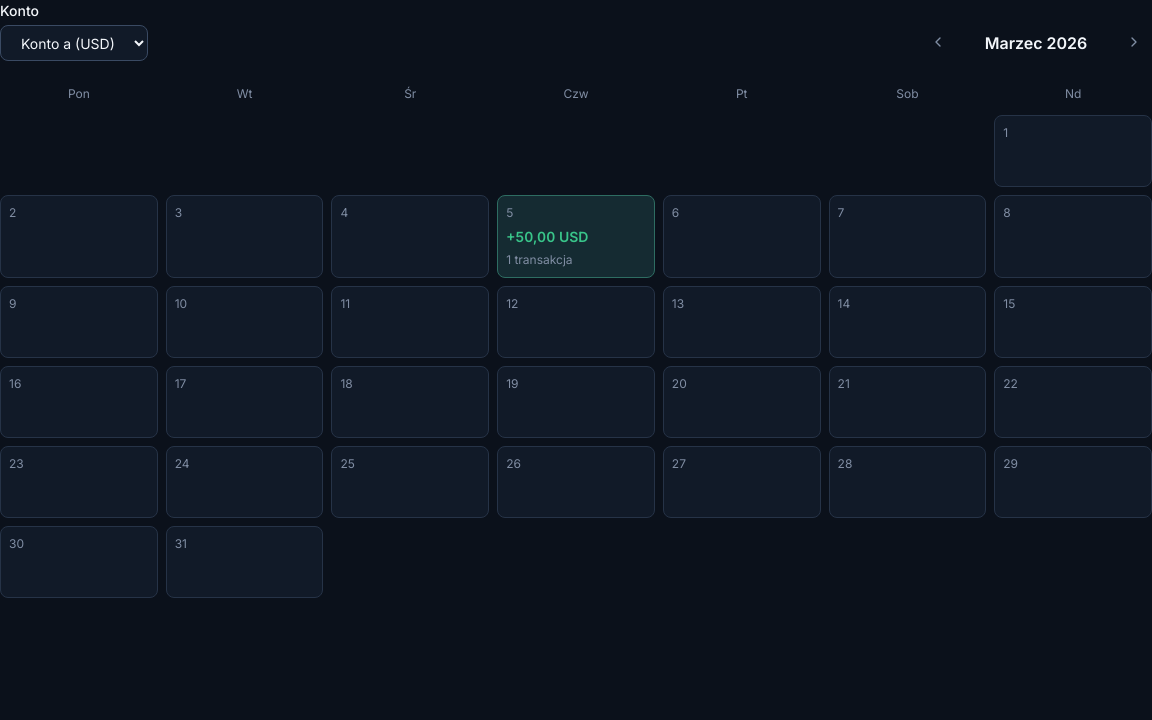
it: CalendarPage › klik w dzień pokazuje TYLKO transakcje zamknięte lokalnie tego dnia, pomija otwarte
Click the button with aria-label "Zobacz transakcje: 5 Marzec 2026" at (576, 236), box [497,195,655,278]
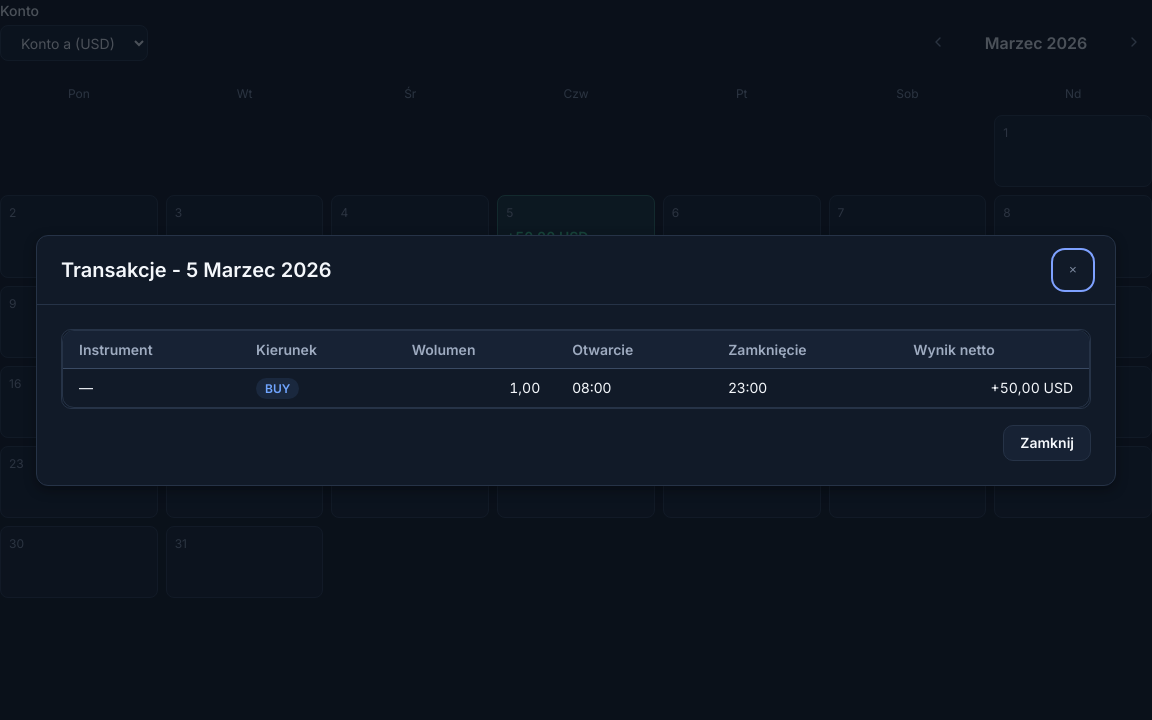
Now the heading "Transakcje - 5 Marzec 2026" is shown, box [61,254,332,284]
Now the number of rows is 2, box [63,330,1089,368]; [63,368,1089,406]
